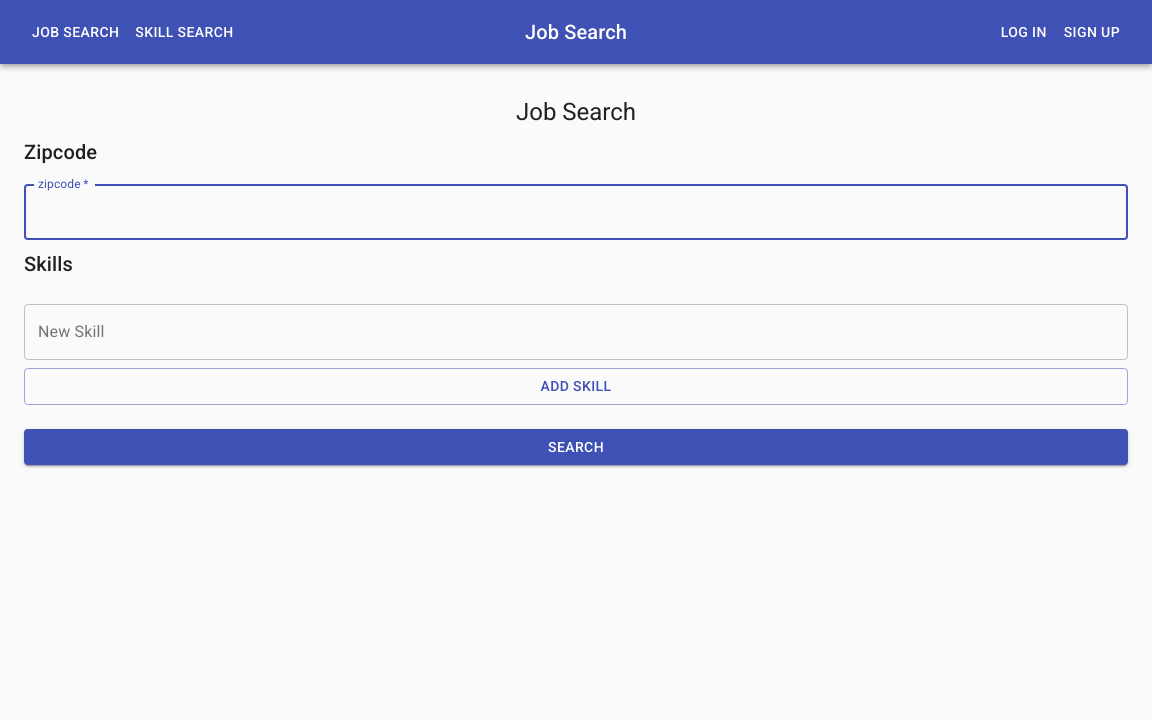
Scenario: Job Search › 0 Results returned - SUCCESS
The width and height of the screenshot is (1152, 720).
Expected: the heading with id "navBarTitle" reads "Job Search", [525,20,627,44]
Type "12345" into the field with id "zipcode" at (576, 212), box [24,184,1128,240]
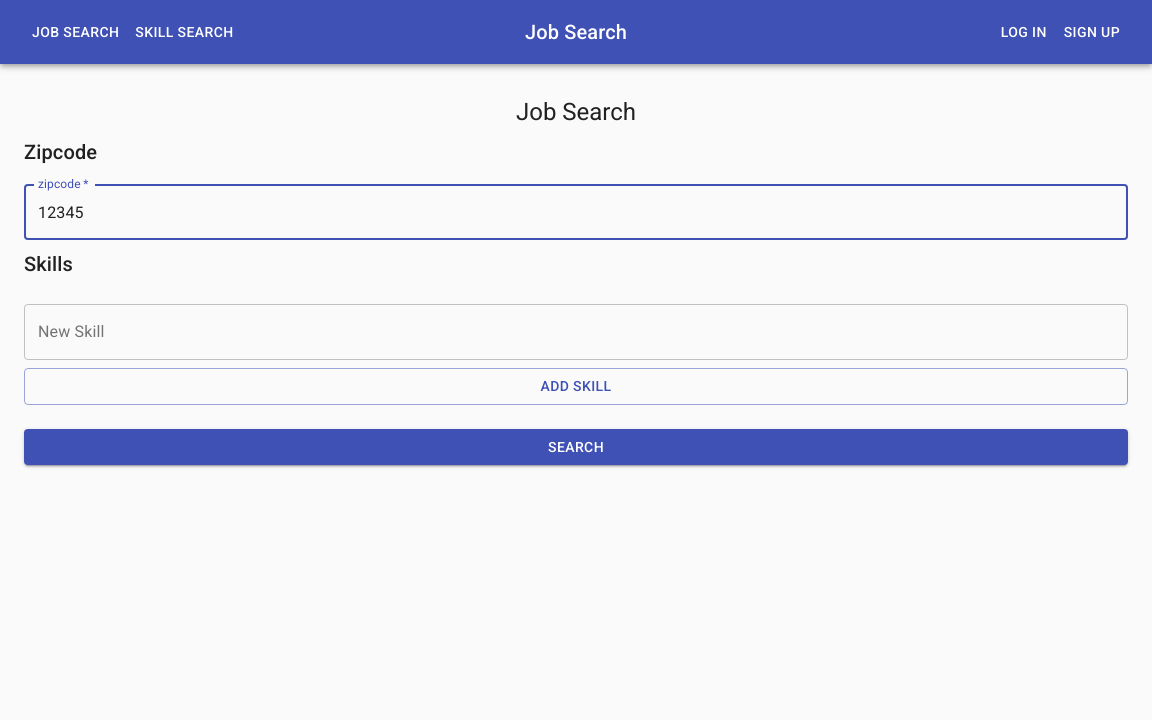
Click the button with id "submit" at (576, 448), box [24,429,1128,466]
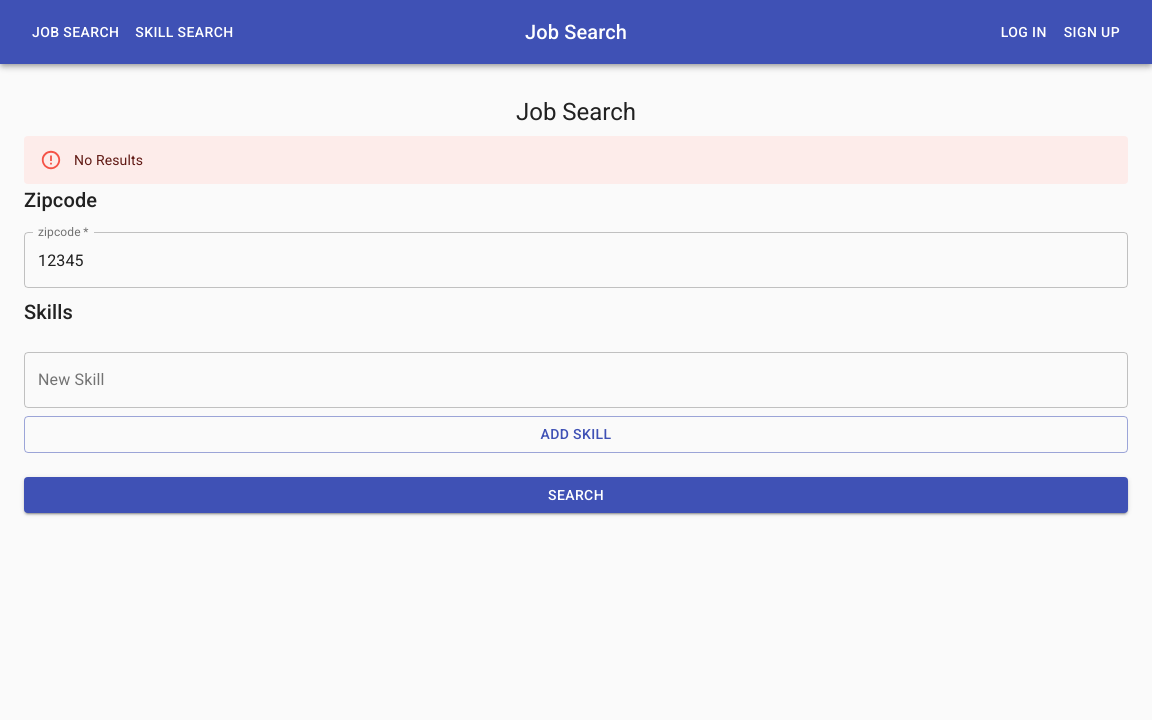
Expected: the text "No Results" is shown, [74,152,143,168]
